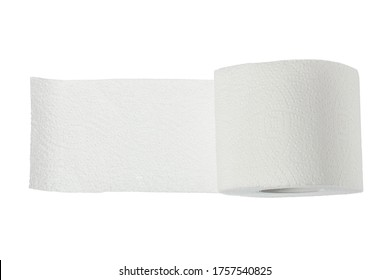Tissue: (25, 58, 366, 197)
